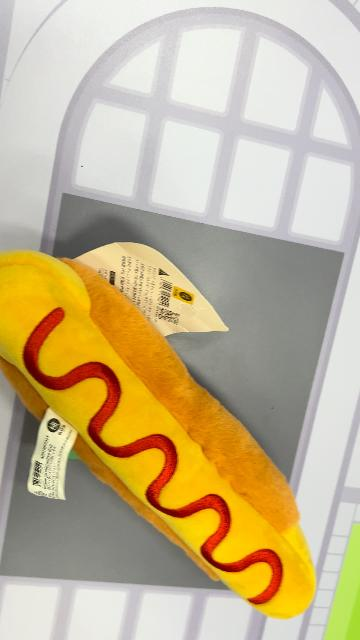hotdog: (2, 248, 318, 620)
